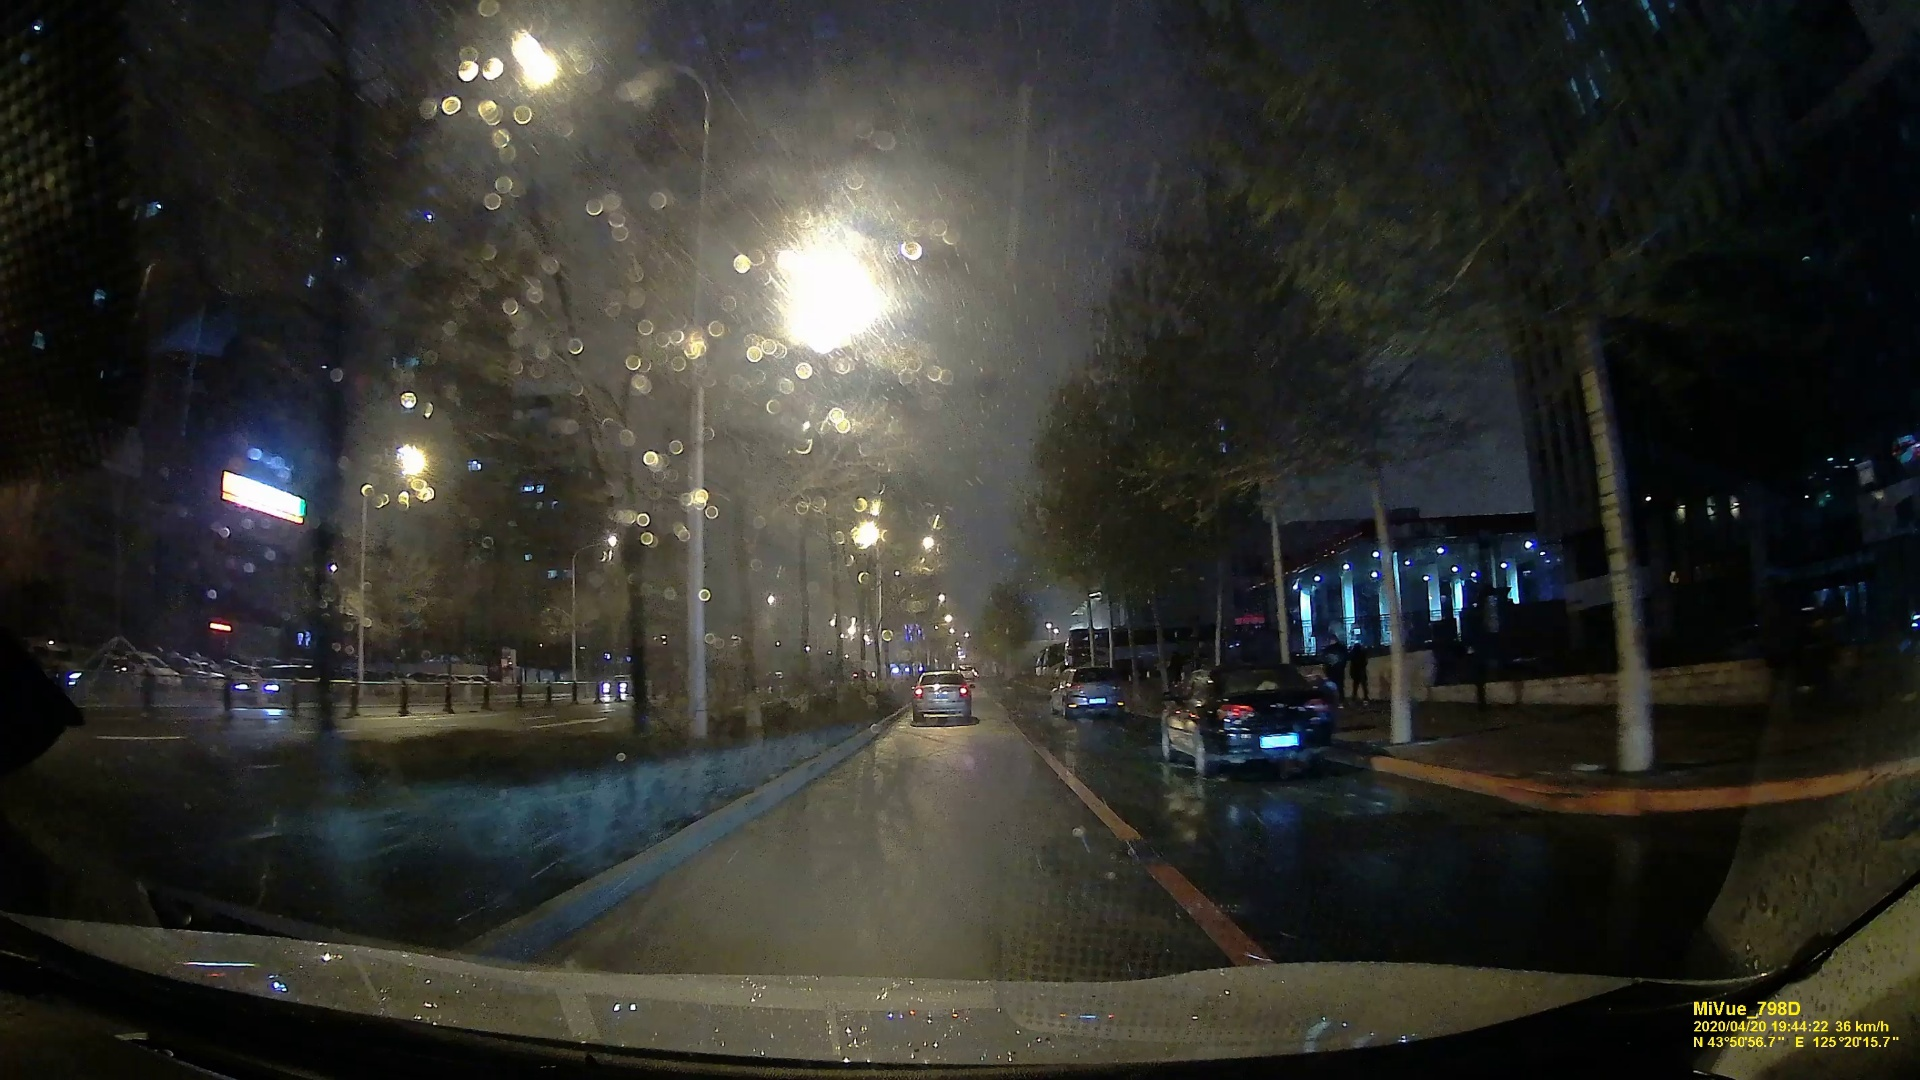person: (1348, 641, 1372, 699)
vehicle: (1157, 659, 1341, 775), (1047, 664, 1123, 719), (910, 670, 977, 726), (232, 662, 313, 703)
